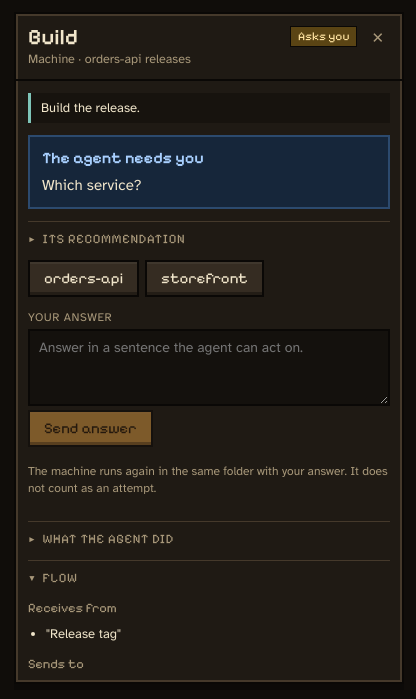
Test: A machine that asks you › shows the question and its recommendation
Expected: the text "Which service?" is shown, [42,176,142,194]
Click the button "▸ Its recommendation": (107, 239) [28,230,185,248]
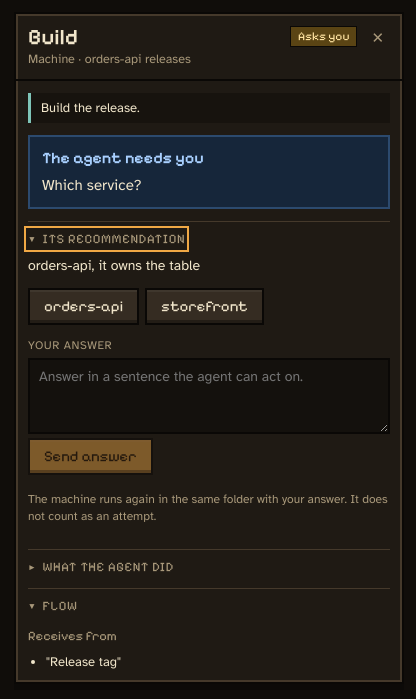
Expected: the text "orders-api, it owns the table" is shown, [28,257,200,274]
